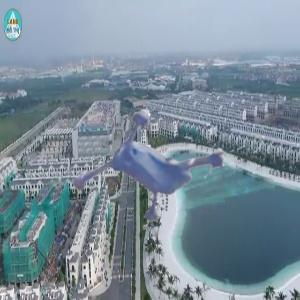drone: (86, 73, 254, 241)
